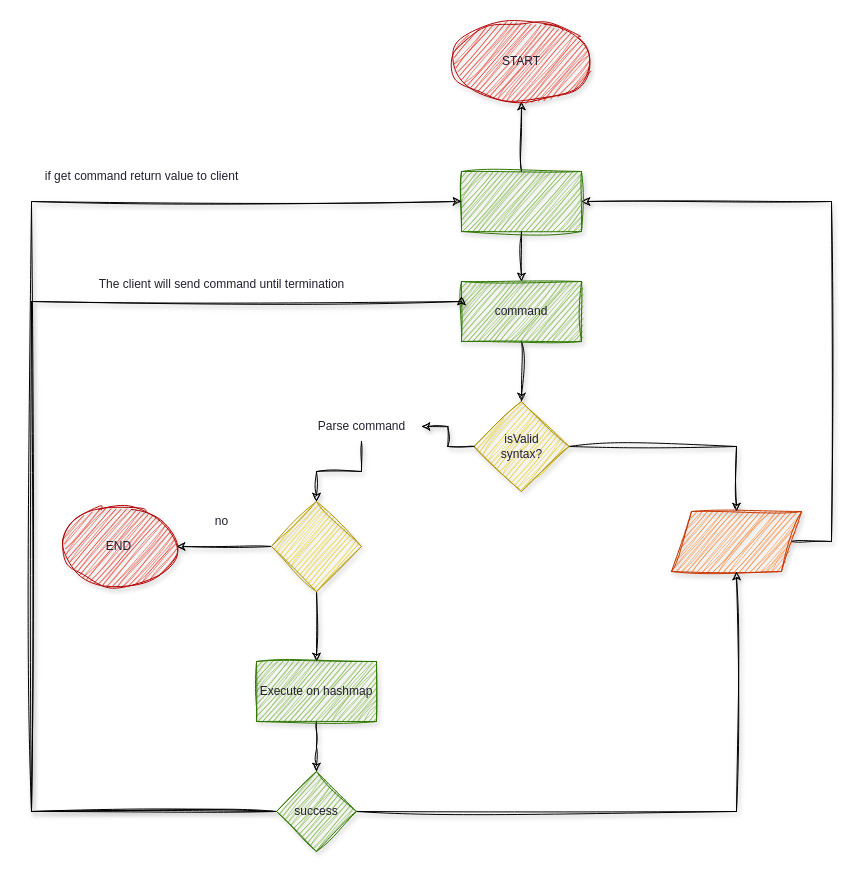
The diagram is 863 pixels wide and 876 high, and some of its shapes have lost their labels. The centre of each missing label's shape, as x and y in pixels:
"Client" belongs at (x=522, y=202).
"Is end command ?" belongs at (x=317, y=547).
"Send error" belongs at (x=737, y=542).
